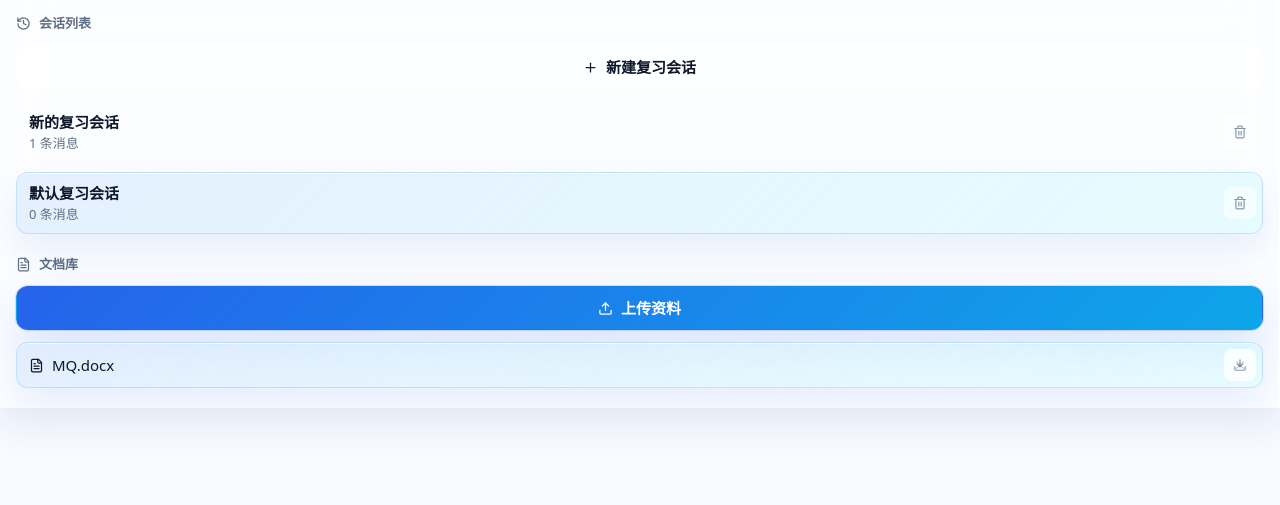
AppSidebar › shows generic feedback when a download URL cannot be retrieved
Click the button named "下载 MQ.docx" at (1240, 365), box 1224,349 -> 1256,381
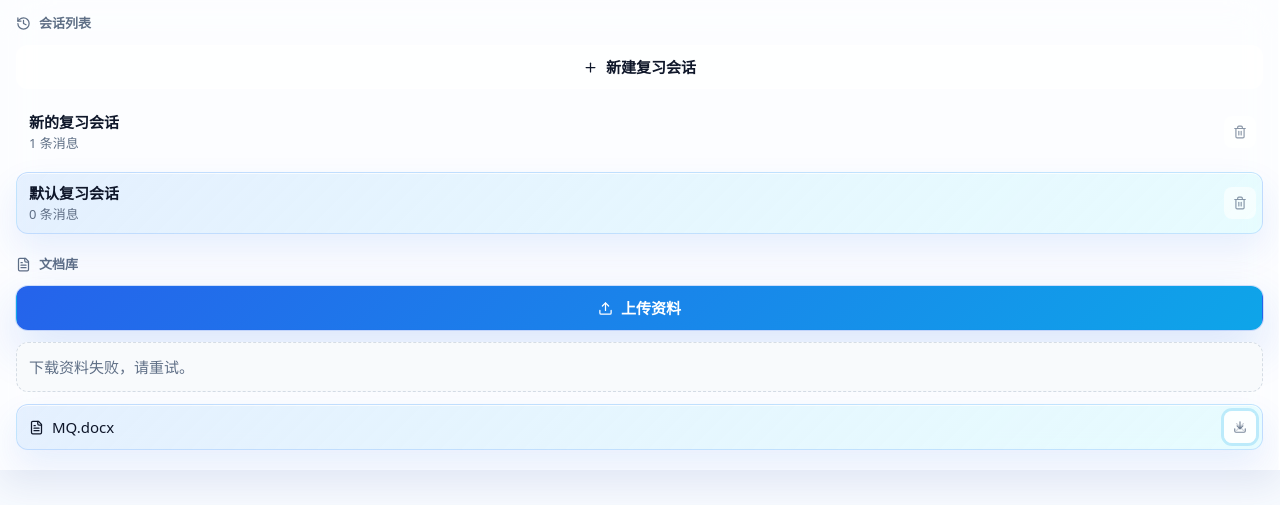
Expected: the message reads "下载资料失败，请重试。", 29,357 -> 194,377
